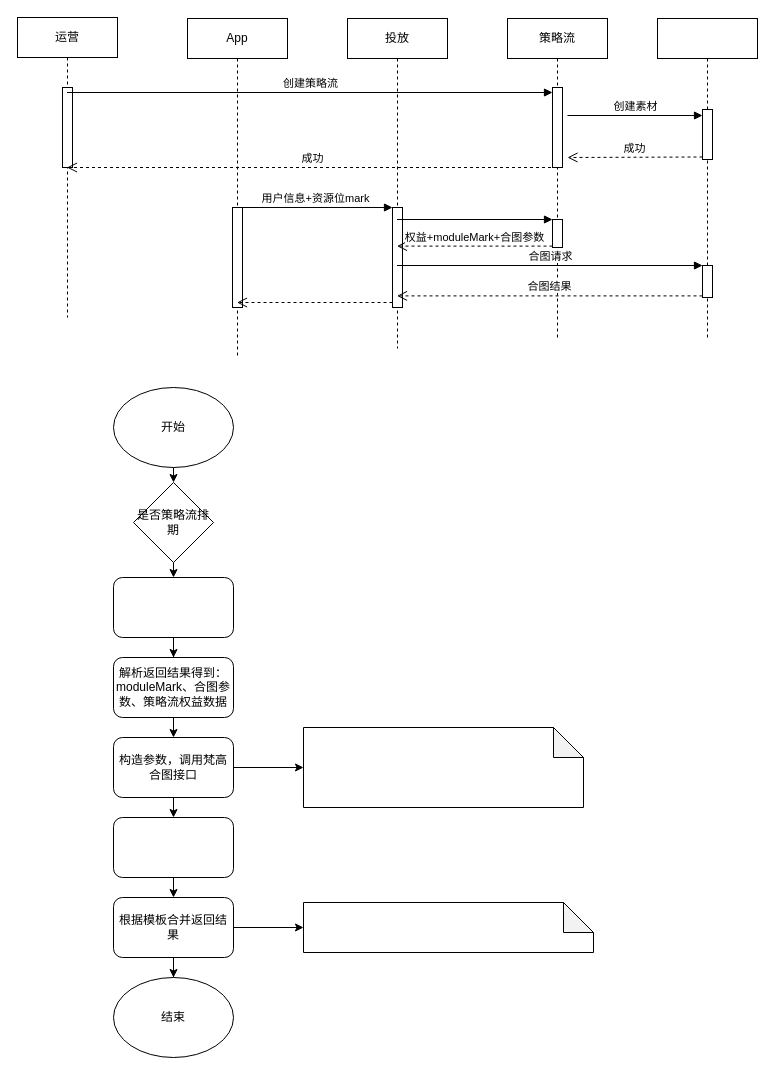
This 775x1075 diagram has some shape labels left out. Each missing label, with the centre of its shape:
1、合图素材可能有多个，因此策略流返回结果需对每个素材进行标识用于后面回填匹配 2、跳转链接直接使用策略流接口数据 3、兜底图逻辑在策略流接口处理后返回: (443,767)
1、解析xml的智能合图标签，根据key进行匹配: (448,927)
根据moduleMark获取xml模板: (173,847)
梵高: (707,178)
调用策略流接口: (173,607)
